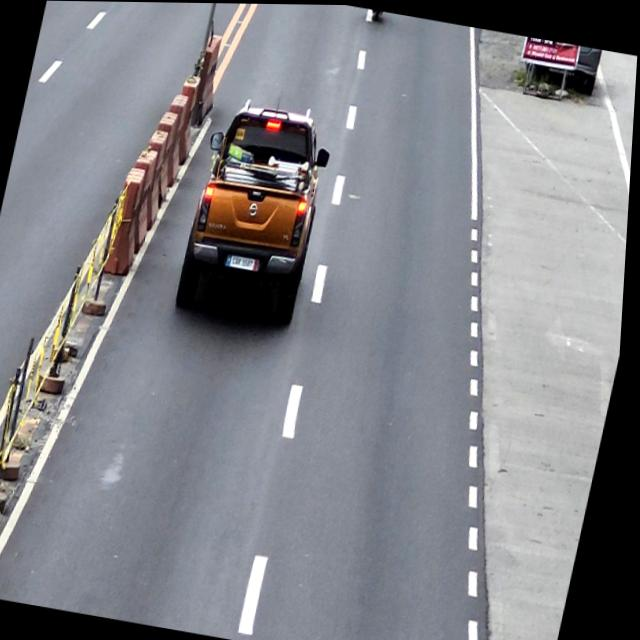Car: (176, 93, 341, 335)
License-Plate: (232, 252, 260, 270)
